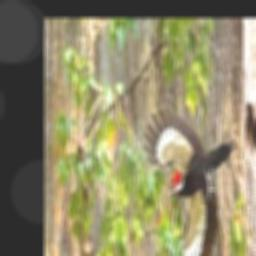Woodpecker: (139, 105, 235, 256)
